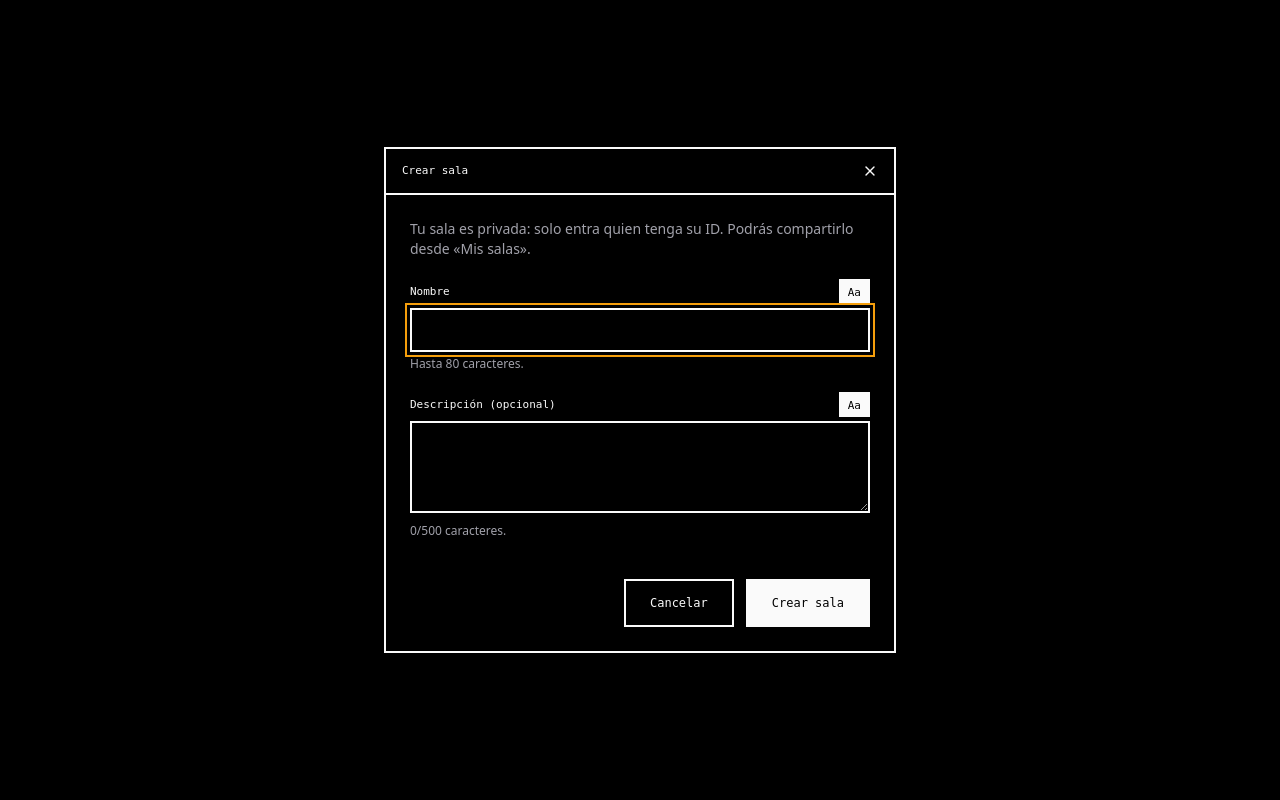
Scenario: DialogoCrearSala (US-06) › si la API rechaza el nombre, el motivo sale junto al campo y se conserva lo escrito
The width and height of the screenshot is (1280, 800).
Type "Algo" into the field labelled "Nombre".
click(640, 330); type("Algo")  # box [410, 308, 870, 352]
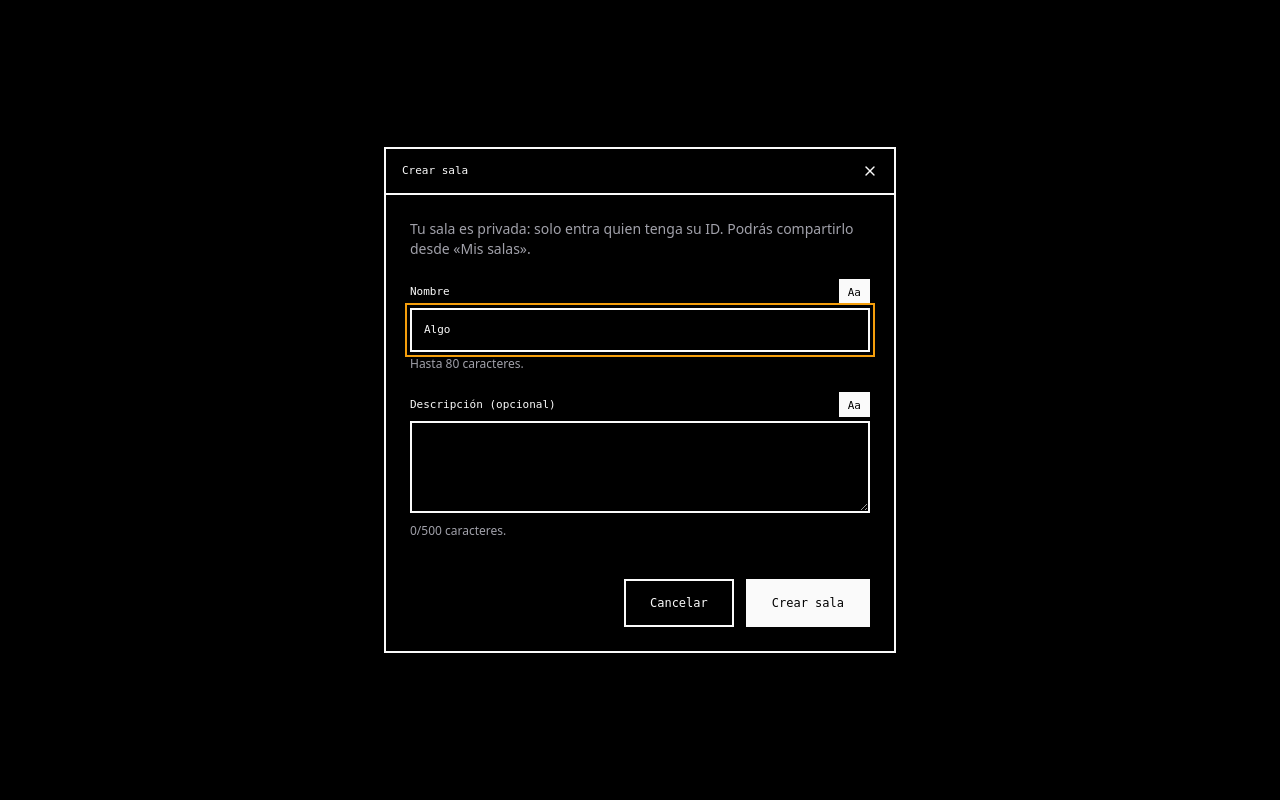
Click the button "Crear sala".
click(808, 603)  # box [746, 579, 870, 627]
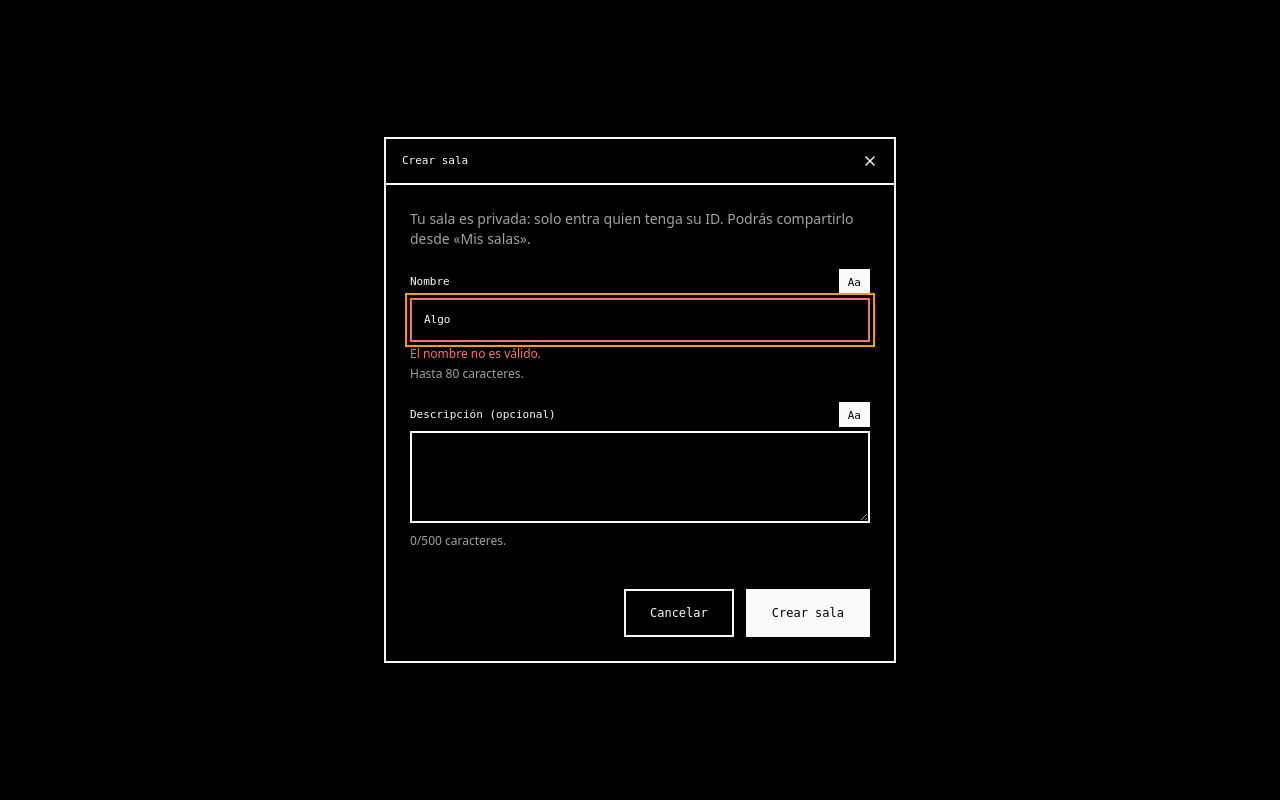
Now the text "El nombre no es válido." is shown, box [410, 345, 541, 362]
